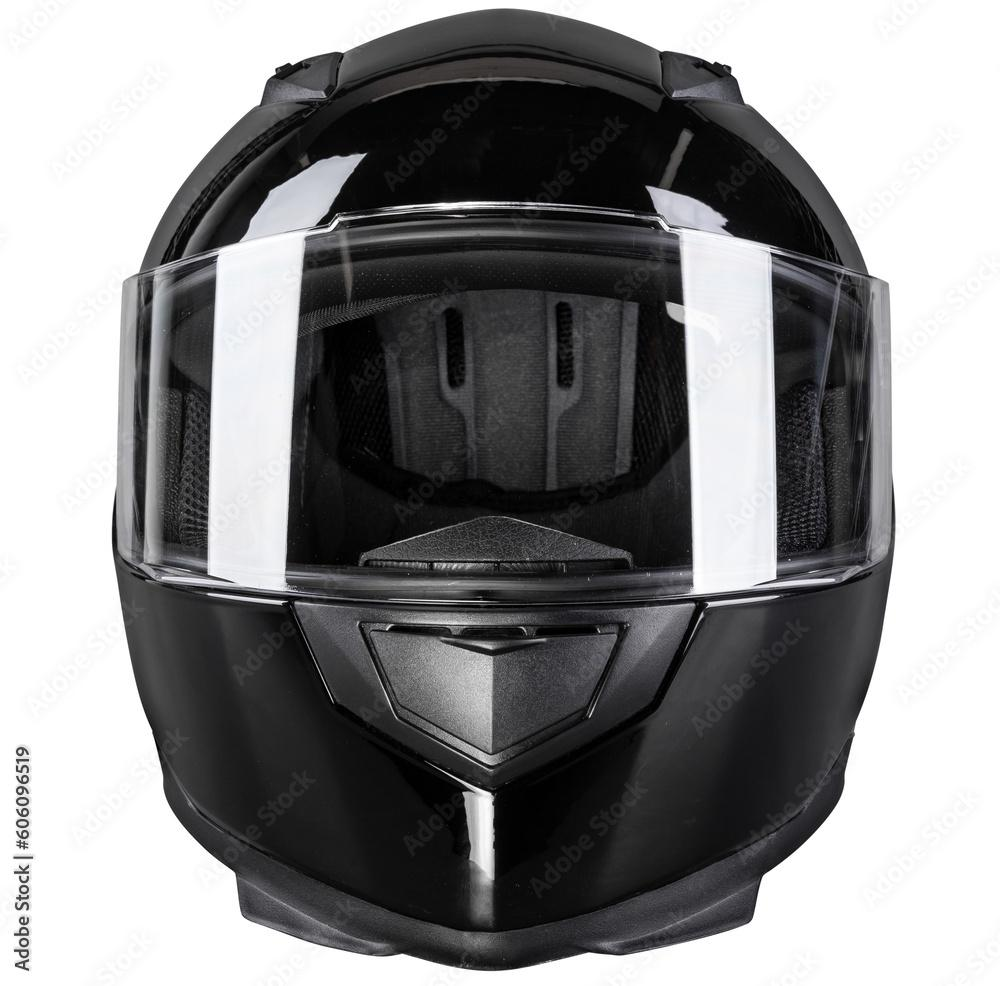helmet: (108, 3, 900, 975)
